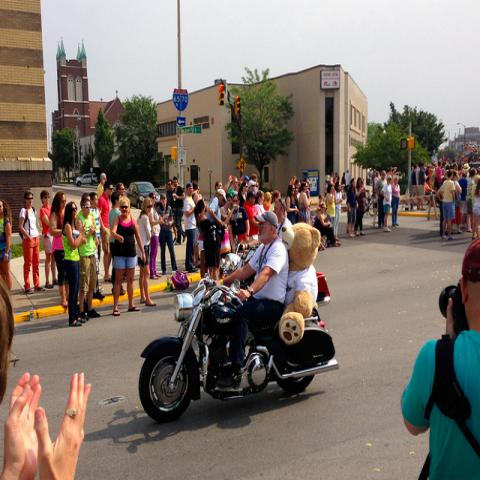car: (125, 181, 160, 208), (74, 173, 98, 187)
motorcycle: (140, 276, 340, 425)
